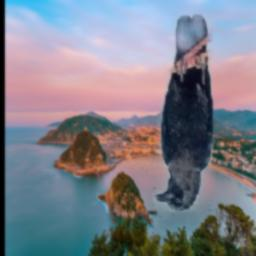Crow: (154, 15, 214, 212)
